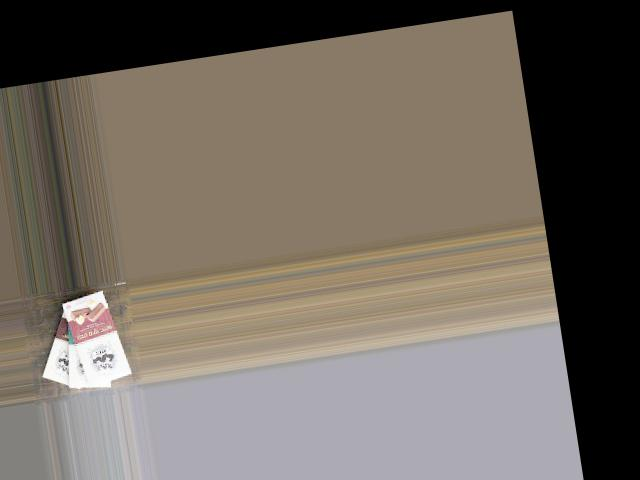chocolate: (30, 293, 104, 396)
